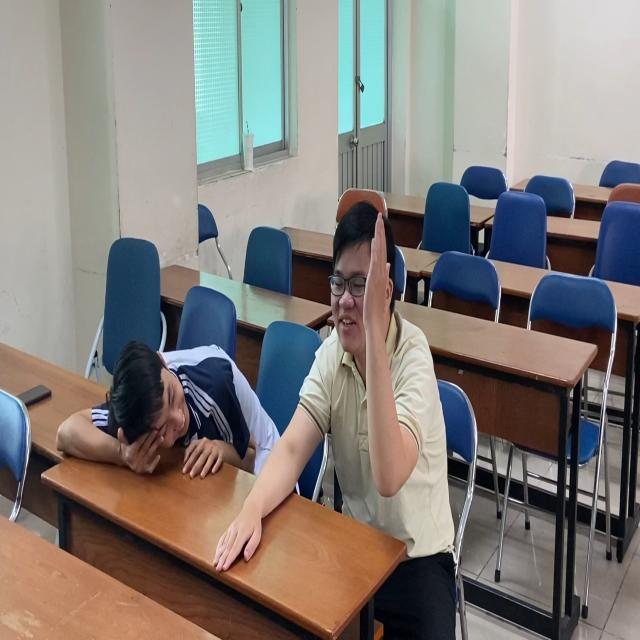raise_hand: (279, 193, 458, 562)
sleep: (49, 331, 272, 493)
